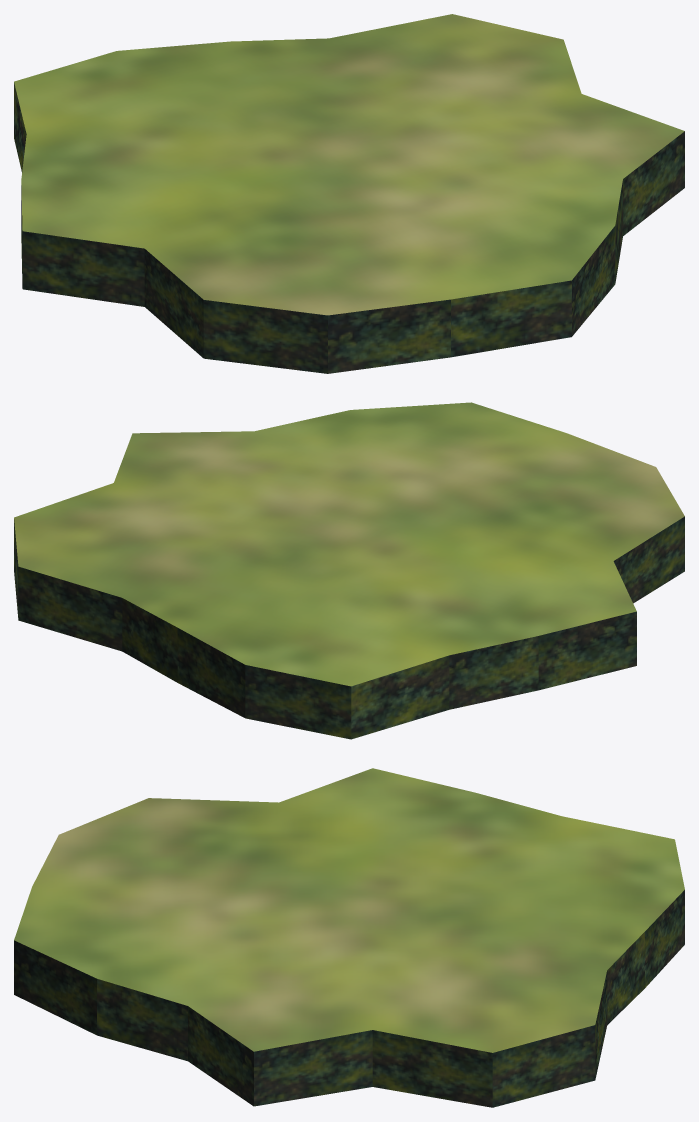
Rendered from Ground_Meadow_C.glb.
3 renders of one model, top to bottom at view 1: azimuth 30°, elevation 25°; view 2: azimuth 150°, elevation 25°; view 3: azimuth 270°, elevation 25°, orthographic. The views are drawn at different scales.
Parts seen in each view (by area): view 1: Ground_Meadow_C; view 2: Ground_Meadow_C; view 3: Ground_Meadow_C.
Part boxes in pixels (bbox=[...]): Ground_Meadow_C: bbox=[14, 14, 684, 373]; Ground_Meadow_C: bbox=[14, 402, 684, 739]; Ground_Meadow_C: bbox=[14, 768, 684, 1107].
Bounding box in the file's own units: 6.59 × 0.69 × 6.59.
Materials: 1 (1 with a texture image).
